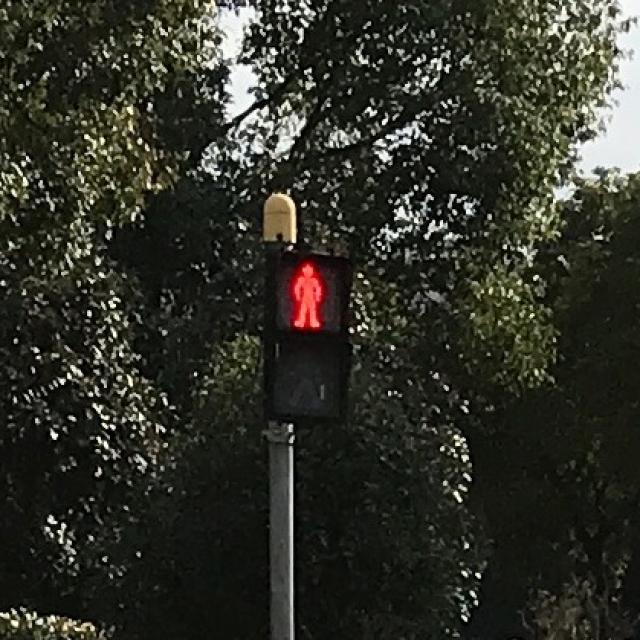red-crossing: (286, 258, 326, 333)
